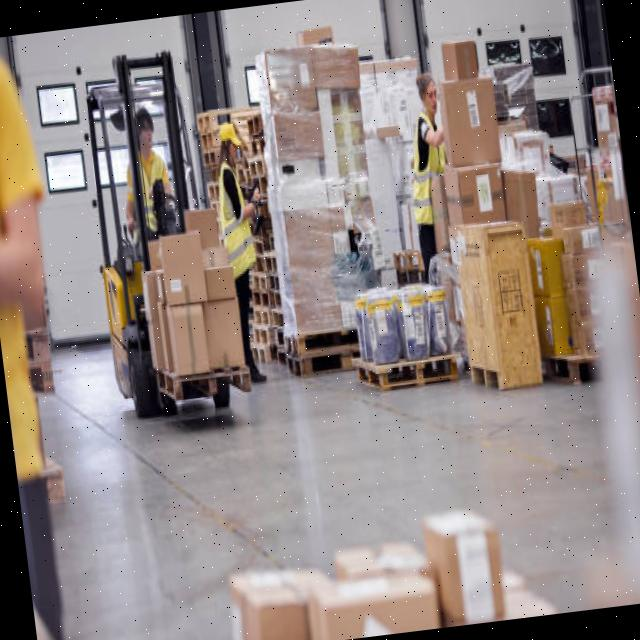Wooden-Pallets: (355, 351, 455, 396), (282, 326, 354, 384)
